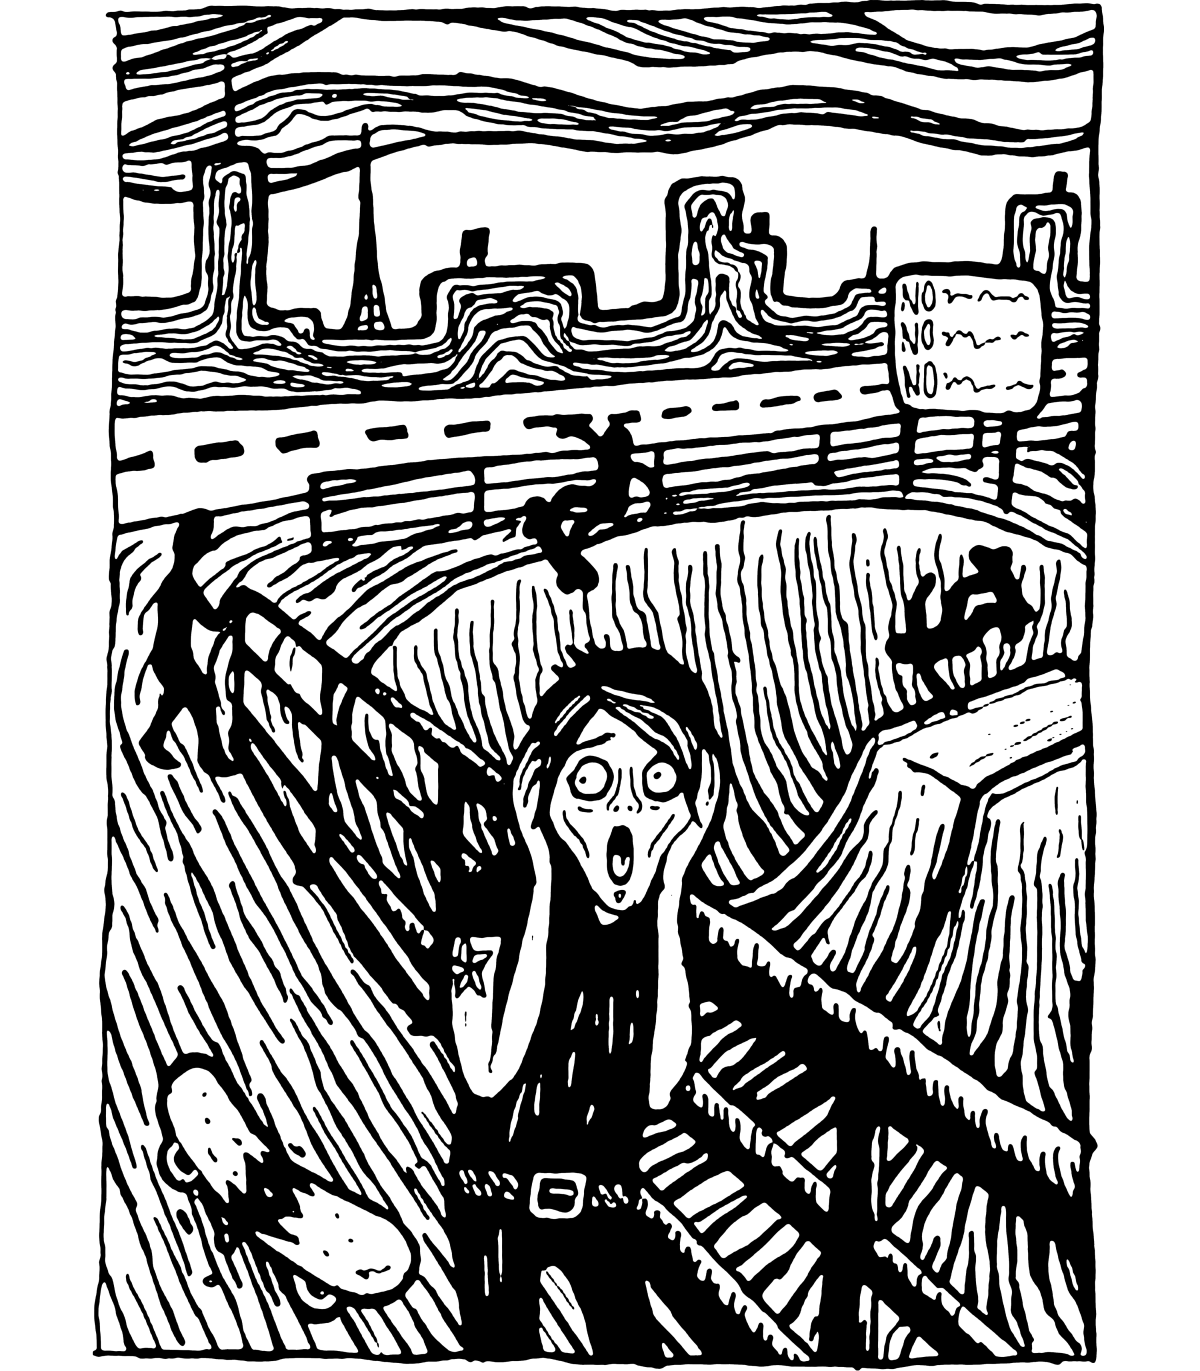design: (105, 7, 1106, 1371)
